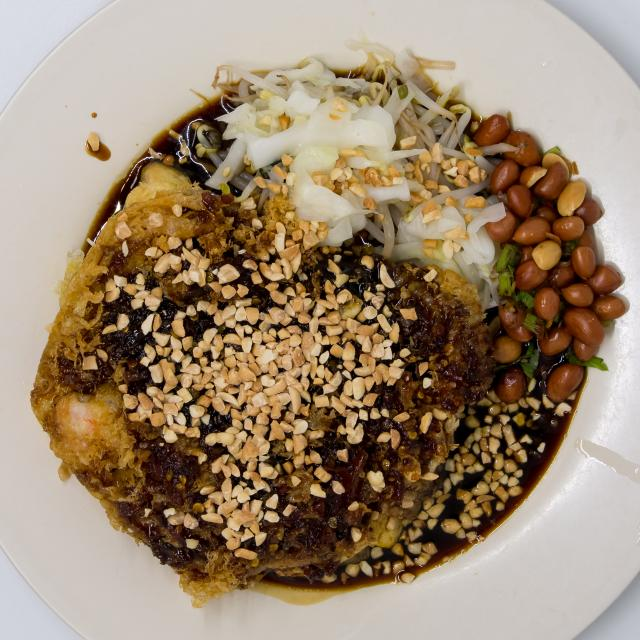Tahu-Telur: (31, 45, 624, 599)
